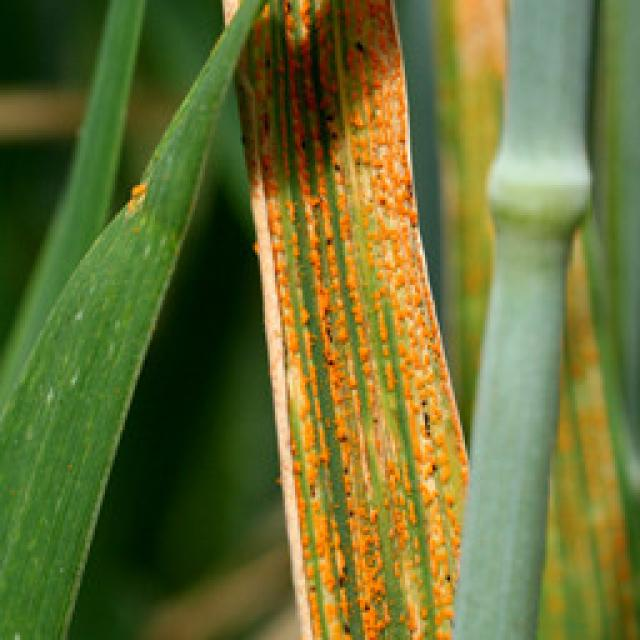wheat-yellowrust: (232, 0, 470, 640)
